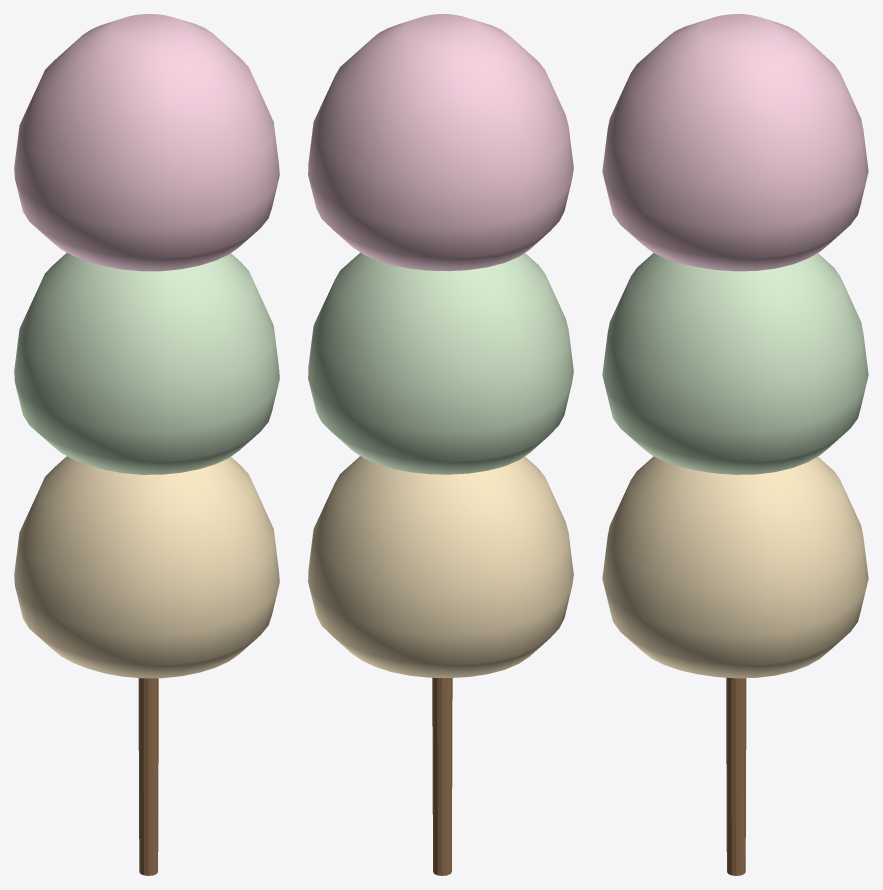
Rendered from mochi-skewer-held.glb.
3 renders of one model, left to right at view 1: azimuth 30°, elevation 25°; view 2: azimuth 150°, elevation 25°; view 3: azimuth 270°, elevation 25°, orthographic.
Visible parts, largest first — view 1: MochiBall_2, MochiBall_0, MochiBall_1, DangoStick; view 2: MochiBall_2, MochiBall_0, MochiBall_1, DangoStick; view 3: MochiBall_2, MochiBall_1, MochiBall_0, DangoStick.
Boxes of the visible parts, left/top/right/bottom form: MochiBall_2: left=14, top=14, right=279, bottom=271; MochiBall_0: left=14, top=456, right=279, bottom=678; MochiBall_1: left=14, top=253, right=279, bottom=474; DangoStick: left=138, top=678, right=158, bottom=875; MochiBall_2: left=308, top=14, right=573, bottom=271; MochiBall_0: left=308, top=456, right=573, bottom=677; MochiBall_1: left=308, top=252, right=573, bottom=474; DangoStick: left=432, top=677, right=452, bottom=875; MochiBall_2: left=602, top=14, right=868, bottom=271; MochiBall_1: left=602, top=253, right=868, bottom=474; MochiBall_0: left=602, top=456, right=868, bottom=678; DangoStick: left=726, top=677, right=746, bottom=875.
Size of the model in its own units: 0.051 by 0.178 by 0.051.
